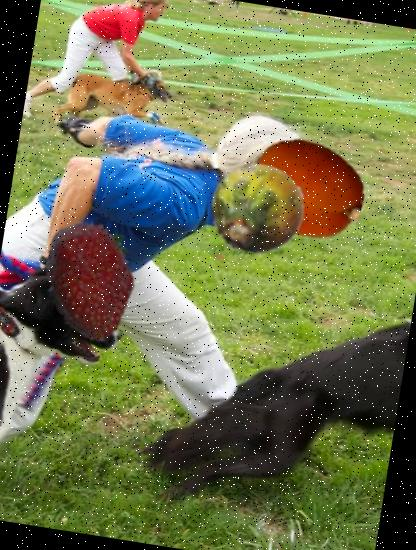Apricot: (244, 124, 372, 254)
Cactus: (204, 155, 313, 264)
Strawberry: (20, 212, 160, 352)
